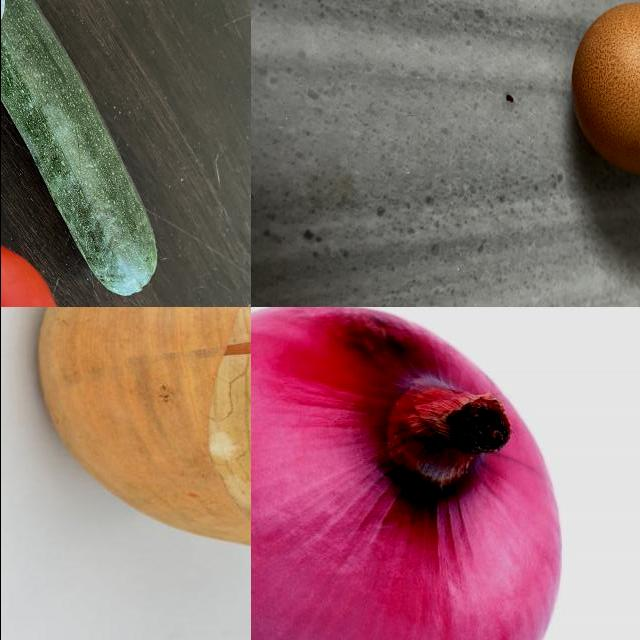egg: (568, 1, 640, 184)
onion: (251, 308, 566, 640), (38, 308, 251, 640)
zucchini: (1, 1, 165, 283)
